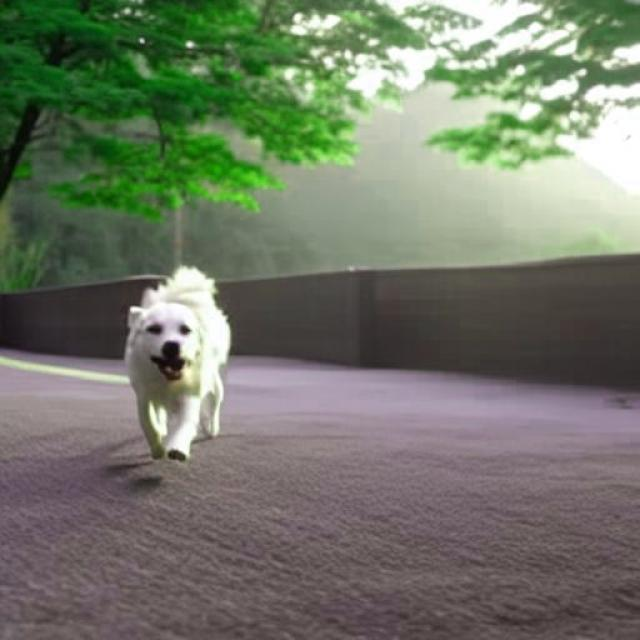Dog: (125, 263, 231, 463)
